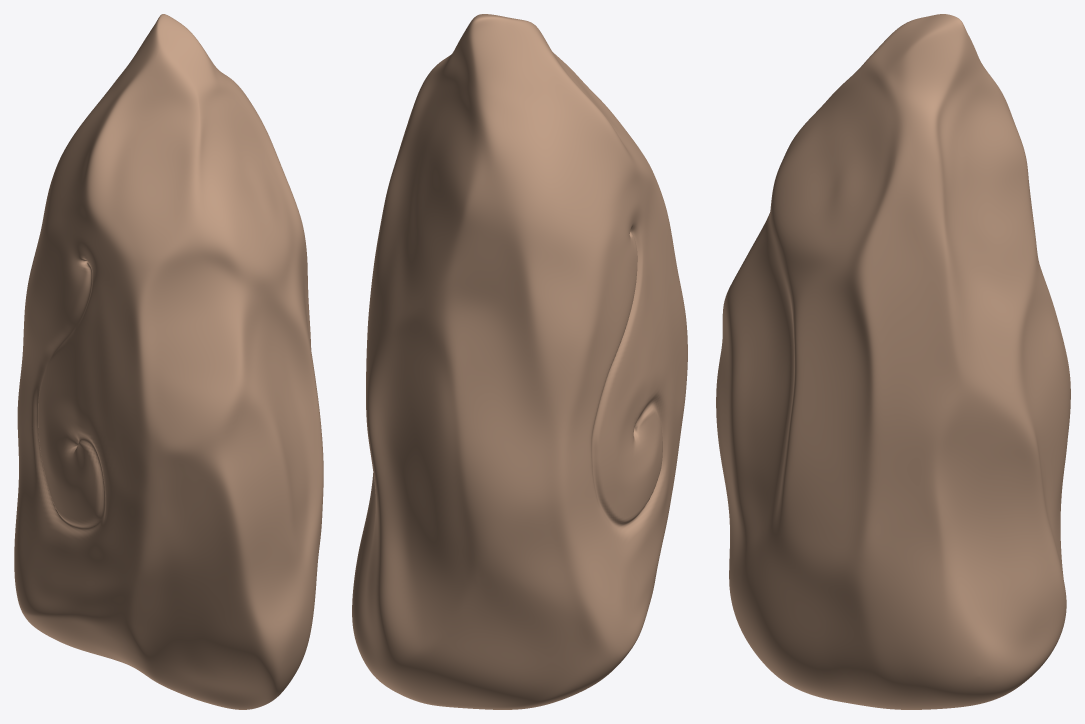
File: Altar_Stones_HP.FBX
The picture shows the model from 3 angles, left to right: view 1: azimuth 30°, elevation 25°; view 2: azimuth 150°, elevation 25°; view 3: azimuth 270°, elevation 25°; orthographic projection. The views are drawn at different scales.
Parts seen in each view (by area): view 1: Box022; view 2: Box022; view 3: Box022.
Part boxes in pixels (x1,y1,x2,y2): Box022: [14, 14, 323, 709]; Box022: [352, 14, 687, 709]; Box022: [716, 14, 1070, 709].
Size of the model in its own units: 53.96 by 133 by 63.43.
